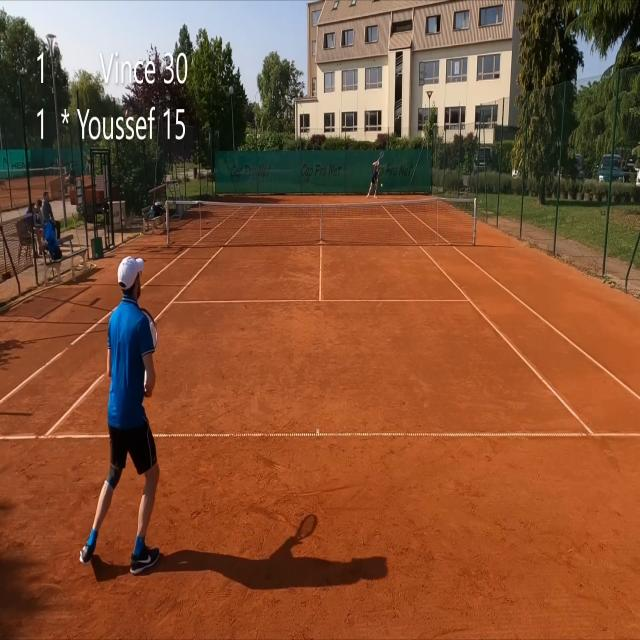ball: (380, 183, 383, 187)
